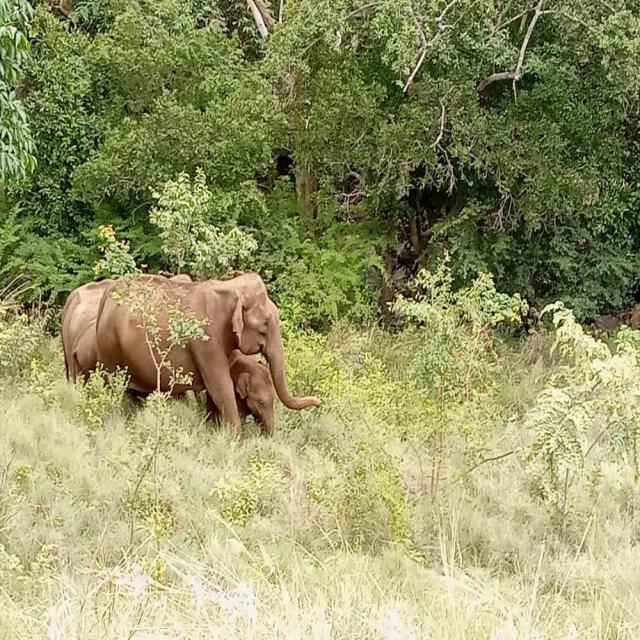Elephant: (96, 272, 322, 431)
